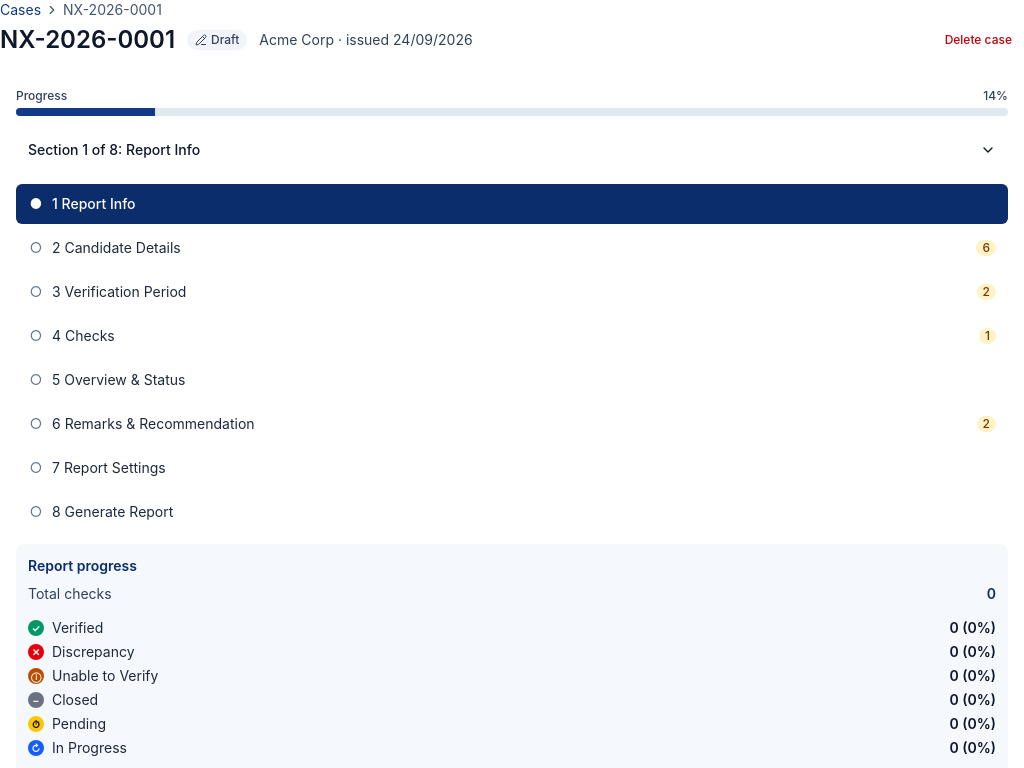
it: CaseWorkspacePage › keeps the case when the delete question is answered with Keep the case
Click the button "Delete case". click: (978, 40)
box: [933,24,1023,56]
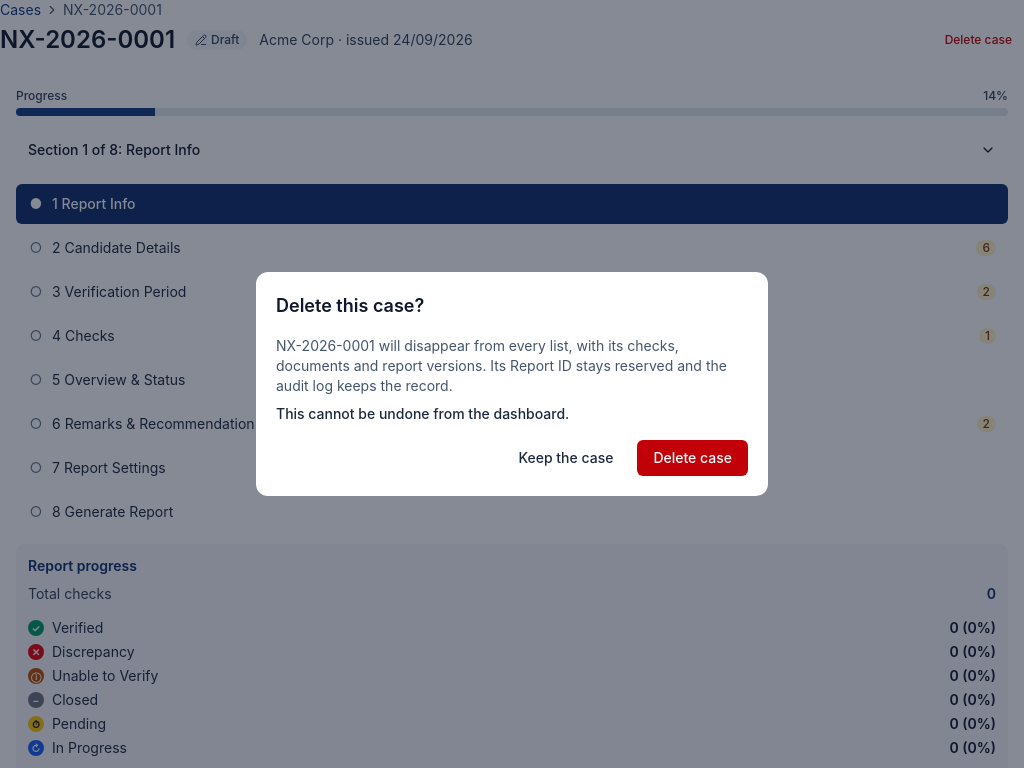
Click the button "Keep the case". click: (566, 458)
box: [502,440,629,476]
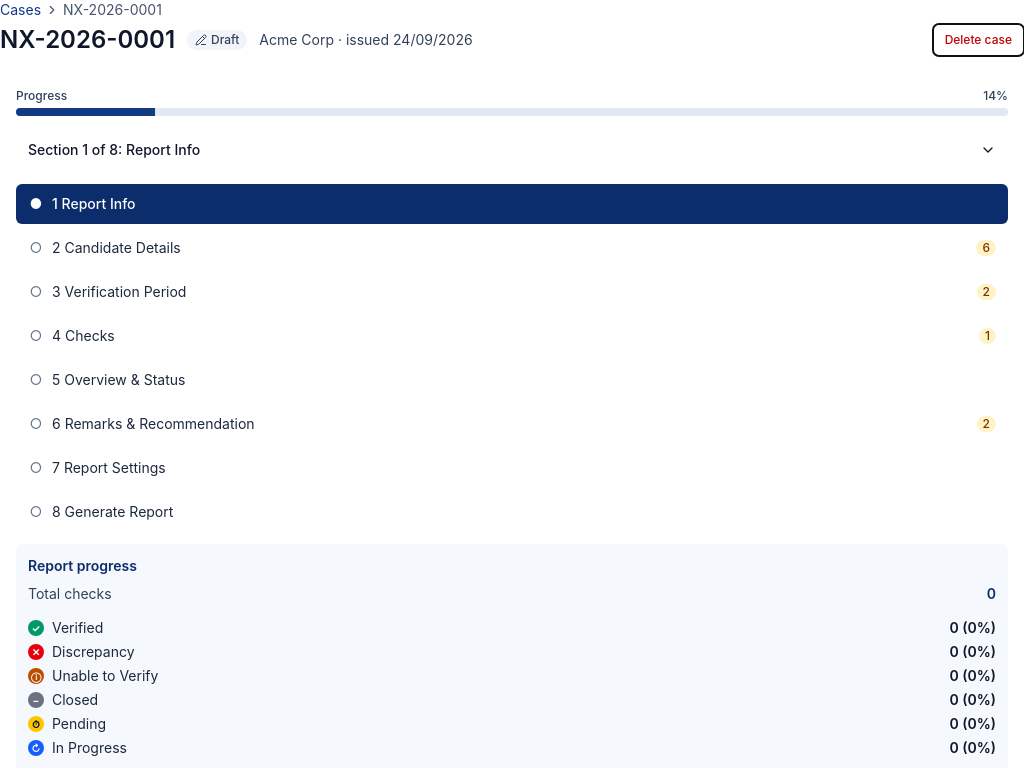
Check: the heading "Delete this case?" is gone
